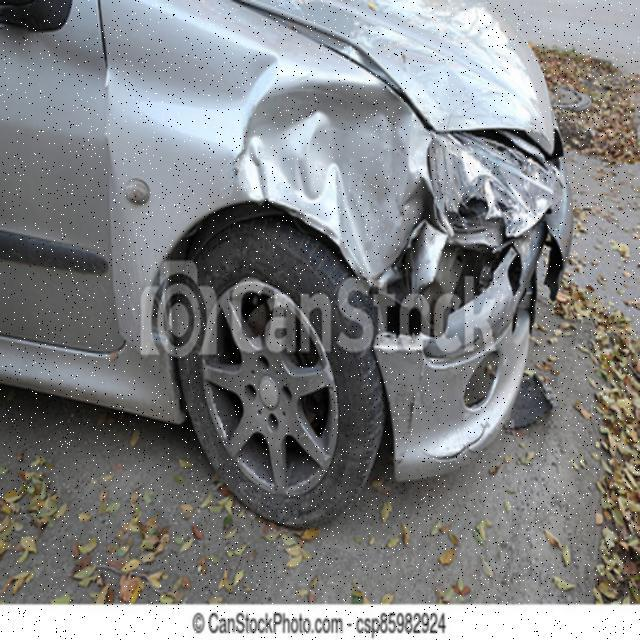Headlight-Damage: (404, 120, 570, 245)
fender-dent: (97, 59, 396, 334)
front-bumper-dent: (353, 227, 564, 489)
